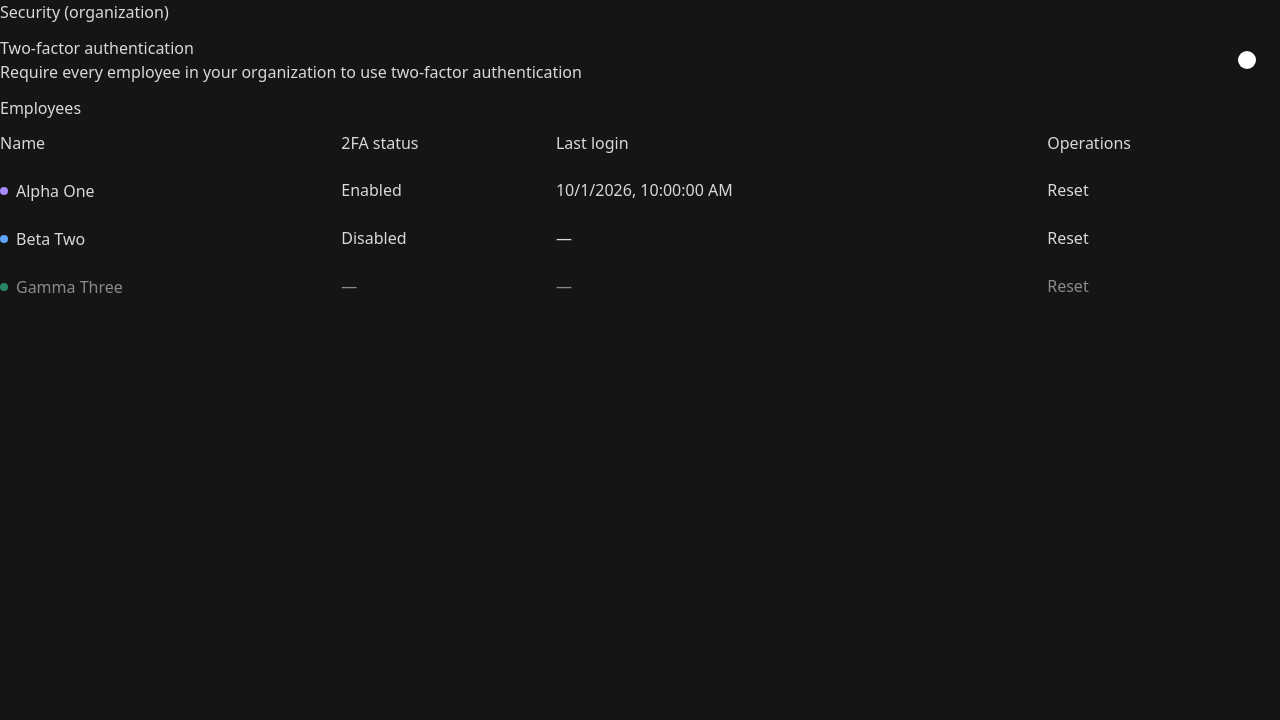
SecurityOrgTab › Reset is on only for an active login with 2FA, and posts the reset after the confirm
Expected: the button "Reset" in the row of "Beta Two" is disabled, [1047,226,1089,250]
Expected: the button "Reset" in the row of "Gamma Three" is disabled, [1047,274,1089,298]
Click the button "Reset" in the row of "Alpha One" at (1068, 190), box [1047,178,1089,202]
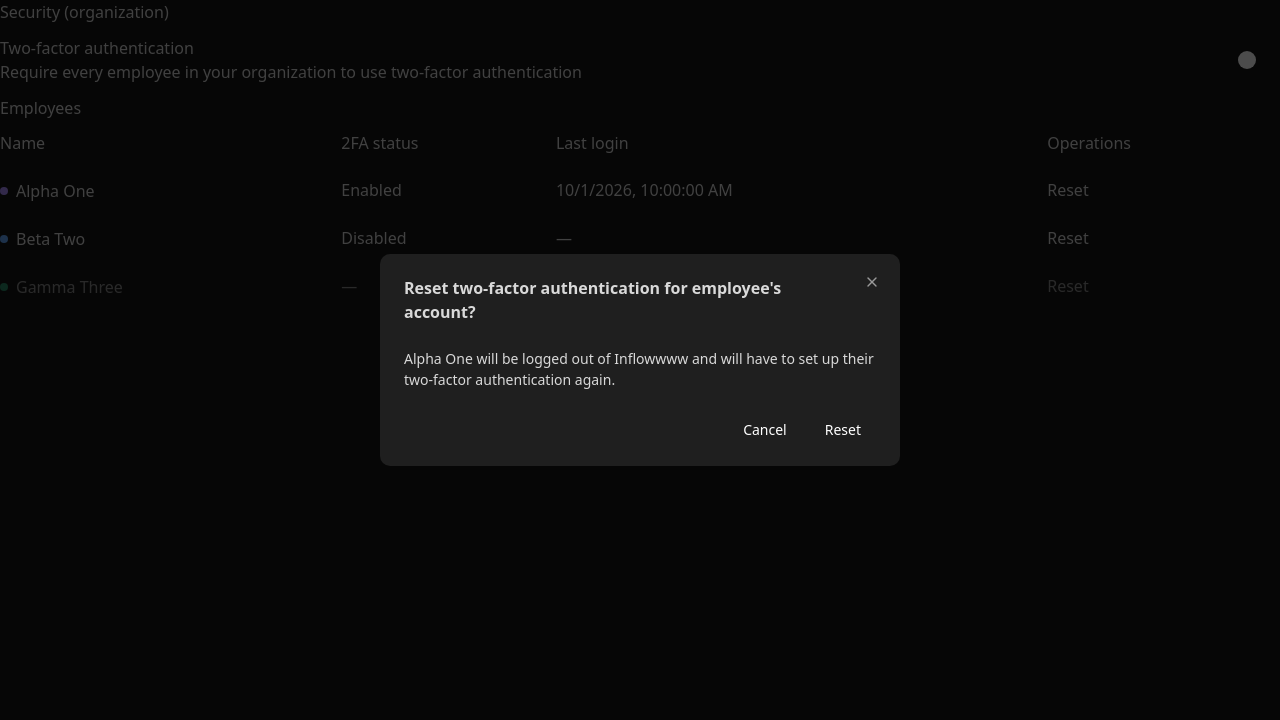
Click the button "Reset" at (843, 430), box [810,414,876,446]
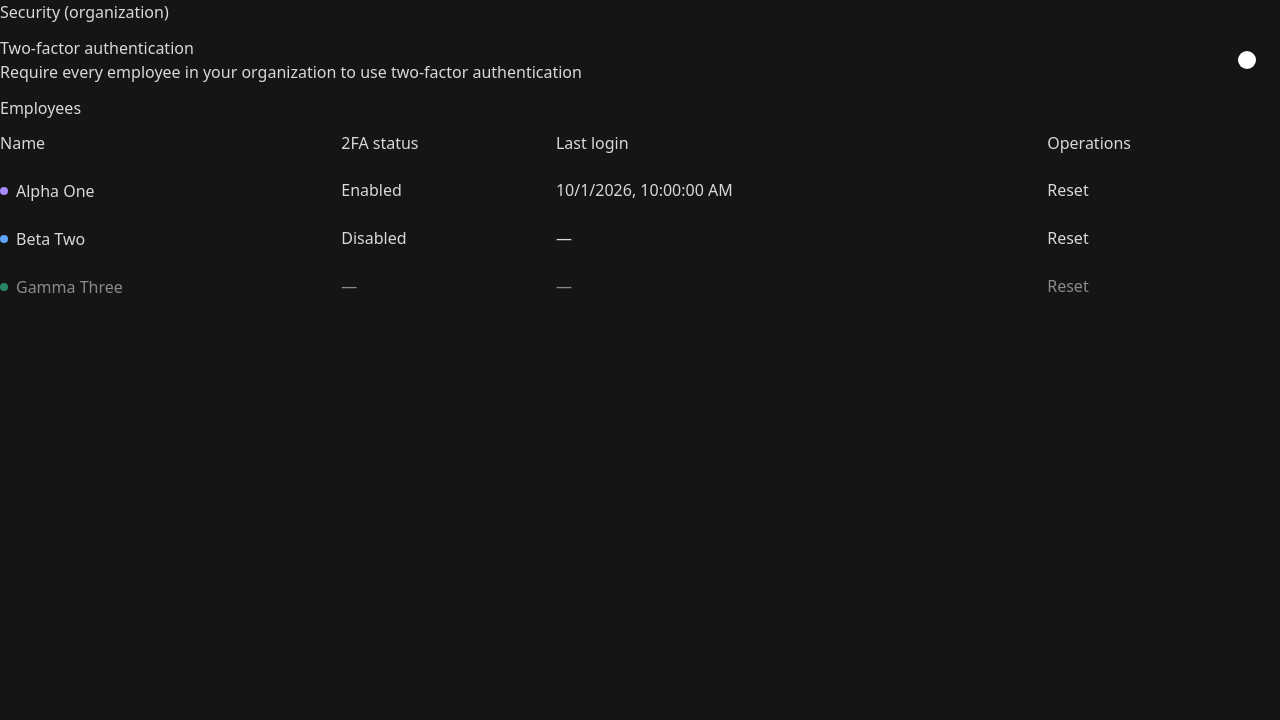
Now the dialog is gone
